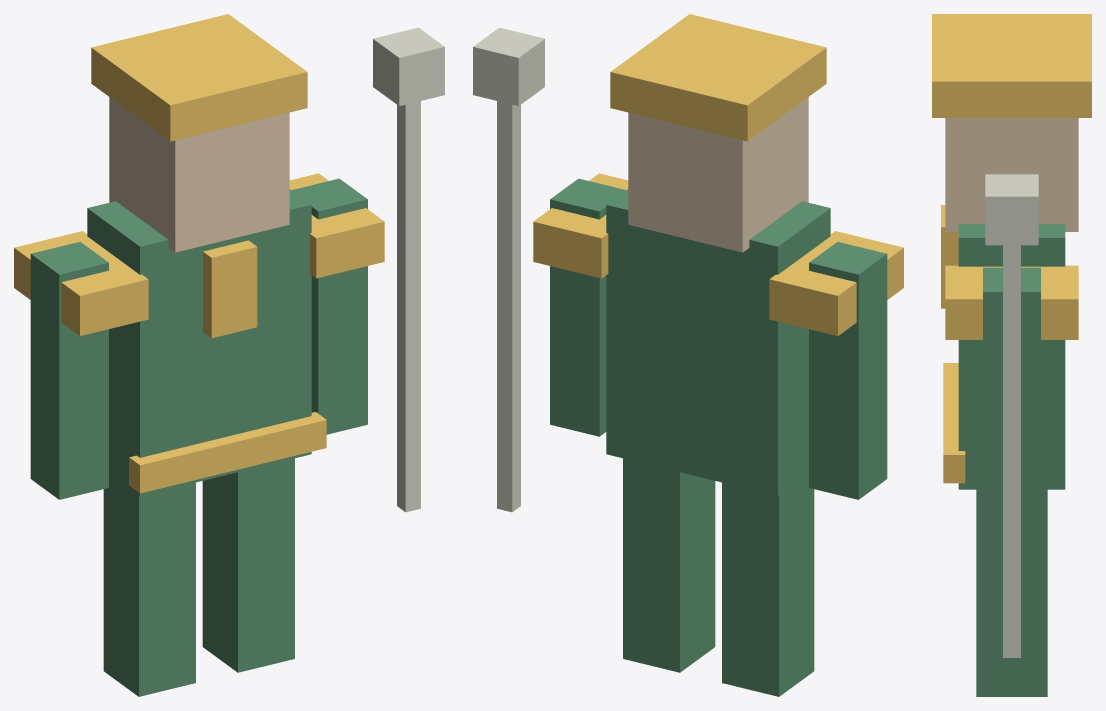
Rendered from 12_korra_signalborn_sentinel_under_canopy.glb.
The picture shows the model from 3 angles, left to right: view 1: azimuth 30°, elevation 25°; view 2: azimuth 150°, elevation 25°; view 3: azimuth 270°, elevation 25°; orthographic projection.
Parts seen in each view (by area): view 1: Korra Signalborn, Sentinel under Canopy; view 2: Korra Signalborn, Sentinel under Canopy; view 3: Korra Signalborn, Sentinel under Canopy.
Part boxes in pixels (x1,y1,x2,y2): Korra Signalborn, Sentinel under Canopy: [14, 14, 444, 696]; Korra Signalborn, Sentinel under Canopy: [473, 14, 903, 696]; Korra Signalborn, Sentinel under Canopy: [932, 14, 1091, 696].
Bounding box in the file's own units: 1.05 × 1.57 × 0.3726.
